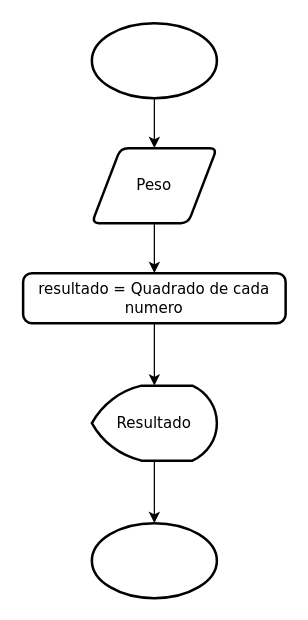
Image size: 308x620. Some labels were removed from this diagram. The shapes that lost their labels are listed below. From the top down, each one's box as (x1, y1, x2, y2) in pixels, then its label:
(90, 21, 218, 99): Inicio
(90, 521, 218, 599): FIM
